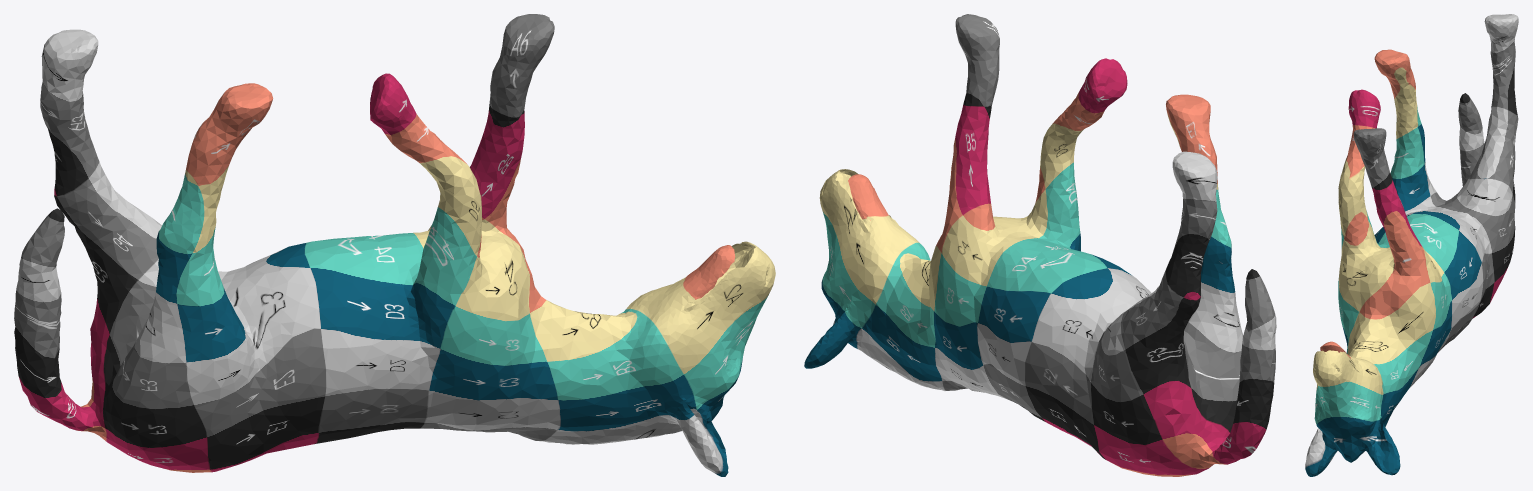
Rendered from cougar_03-horse_03.obj.
3 renders of one model, left to right at view 1: azimuth 30°, elevation 25°; view 2: azimuth 150°, elevation 25°; view 3: azimuth 270°, elevation 25°, orthographic. The views are drawn at different scales.
Visible parts, largest first — view 1: cougar_03-horse_03_export; view 2: cougar_03-horse_03_export; view 3: cougar_03-horse_03_export.
Boxes of the visible parts, left/top/right/bottom form: cougar_03-horse_03_export: left=14, top=14, right=775, bottom=476; cougar_03-horse_03_export: left=804, top=14, right=1276, bottom=476; cougar_03-horse_03_export: left=1305, top=14, right=1518, bottom=476.
Size of the model in its own units: 0.9635 by 0.6562 by 0.422.
